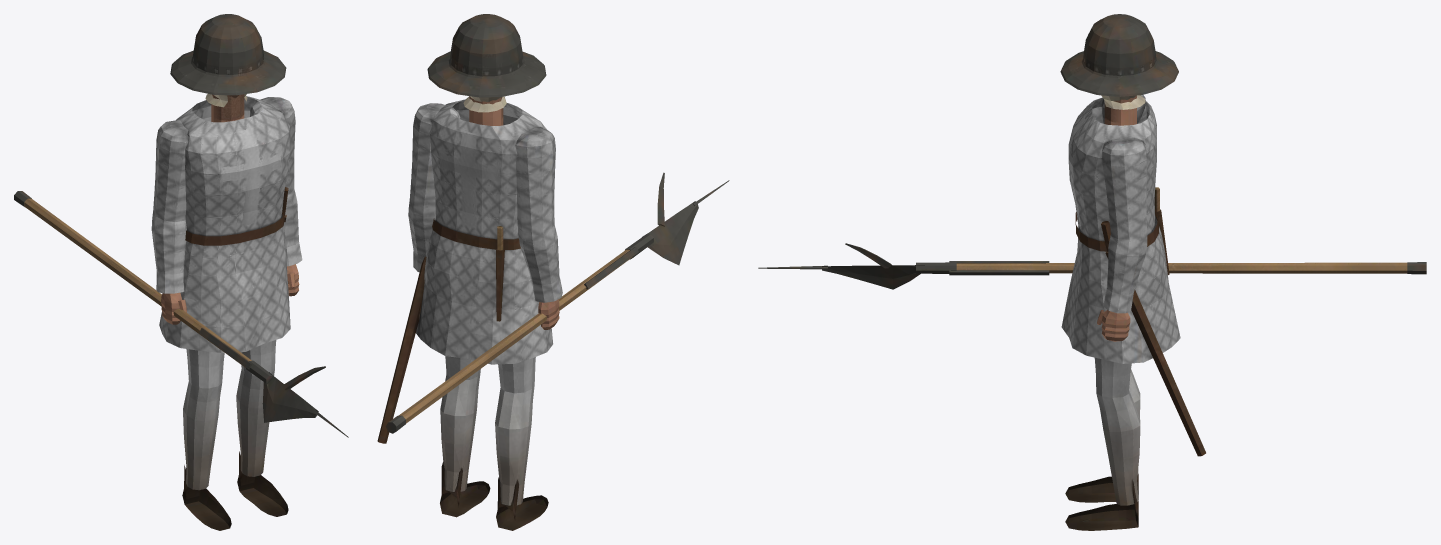
Rendered from billmen.glb.
The picture shows the model from 3 angles, left to right: view 1: azimuth 30°, elevation 25°; view 2: azimuth 150°, elevation 25°; view 3: azimuth 270°, elevation 25°; orthographic projection. The views are drawn at different scales.
Visible parts, largest first — view 1: billmen_LOD0; view 2: billmen_LOD0; view 3: billmen_LOD0.
Boxes of the visible parts, bbox=[...] form: billmen_LOD0: bbox=[14, 14, 348, 530]; billmen_LOD0: bbox=[377, 14, 729, 530]; billmen_LOD0: bbox=[758, 14, 1426, 530].
Size of what is drawn, in the model's own units: 0.5703 by 1.8 by 2.21.
Materials: 1 (1 with a texture image).
